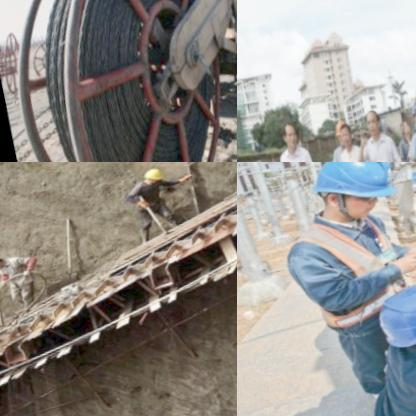helmet: (302, 162, 411, 236), (360, 264, 416, 376), (135, 163, 167, 188), (333, 116, 348, 147), (0, 249, 9, 273)
